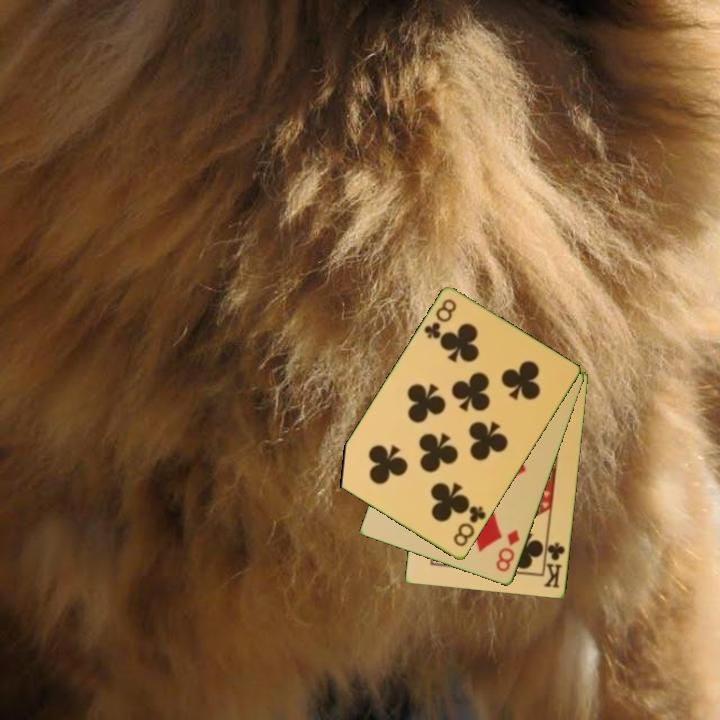8c: (420, 296, 460, 342), (450, 503, 489, 550)
8d: (492, 526, 523, 575)
Kc: (541, 535, 568, 591)
